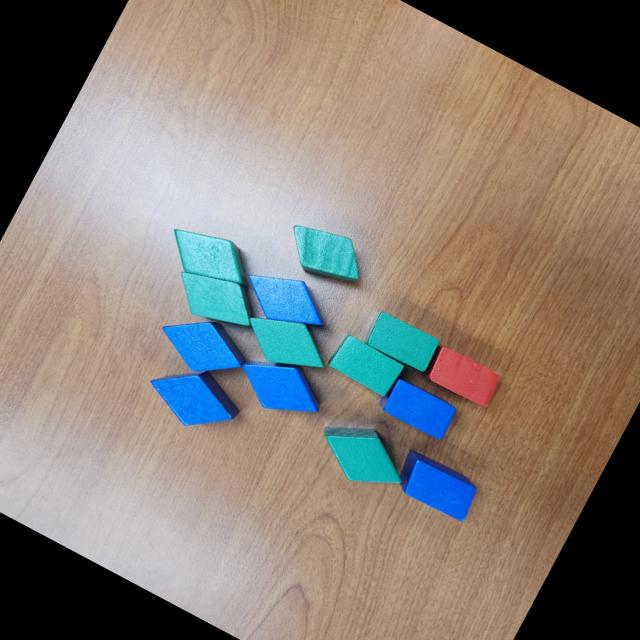blue: (138, 349, 248, 444), (230, 256, 340, 348), (147, 299, 255, 392), (228, 340, 334, 431), (387, 446, 484, 524), (374, 374, 458, 444)
green: (306, 406, 416, 502), (232, 299, 338, 387), (274, 212, 378, 298), (159, 215, 263, 301), (166, 256, 266, 341), (323, 330, 407, 401), (362, 307, 442, 376)
red: (424, 344, 503, 411)
